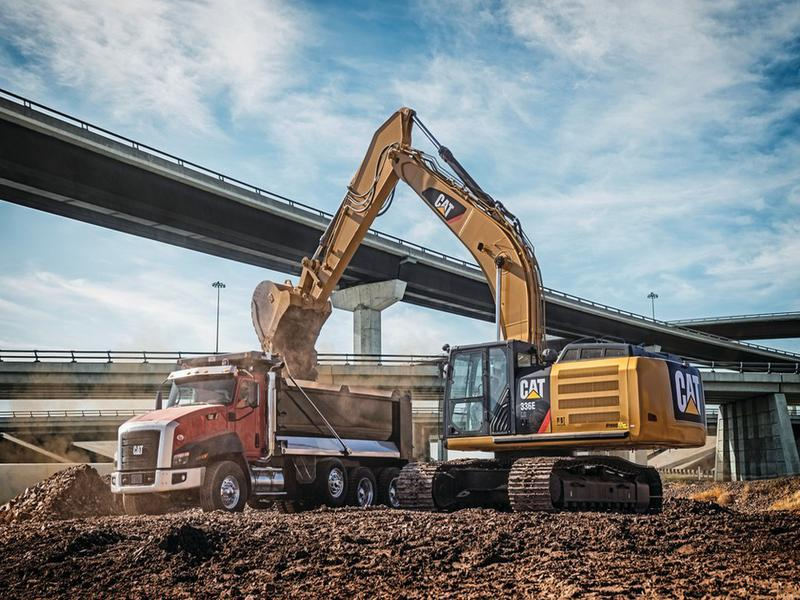shovel: (246, 103, 716, 532)
